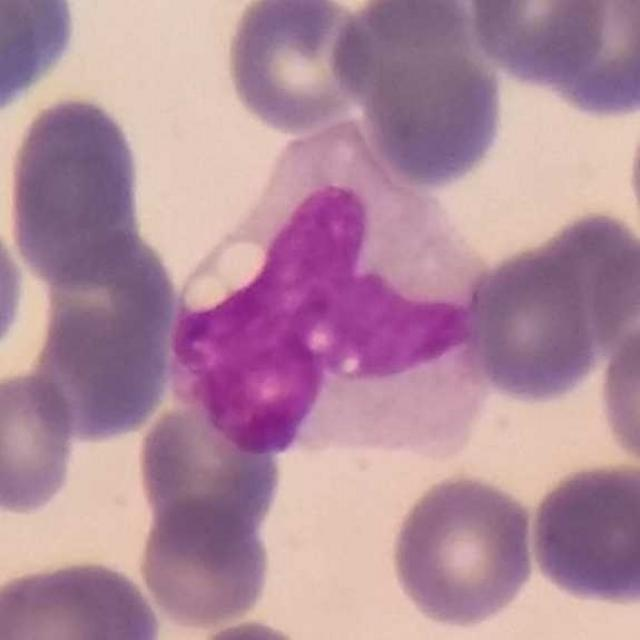mono: (162, 101, 499, 483)
